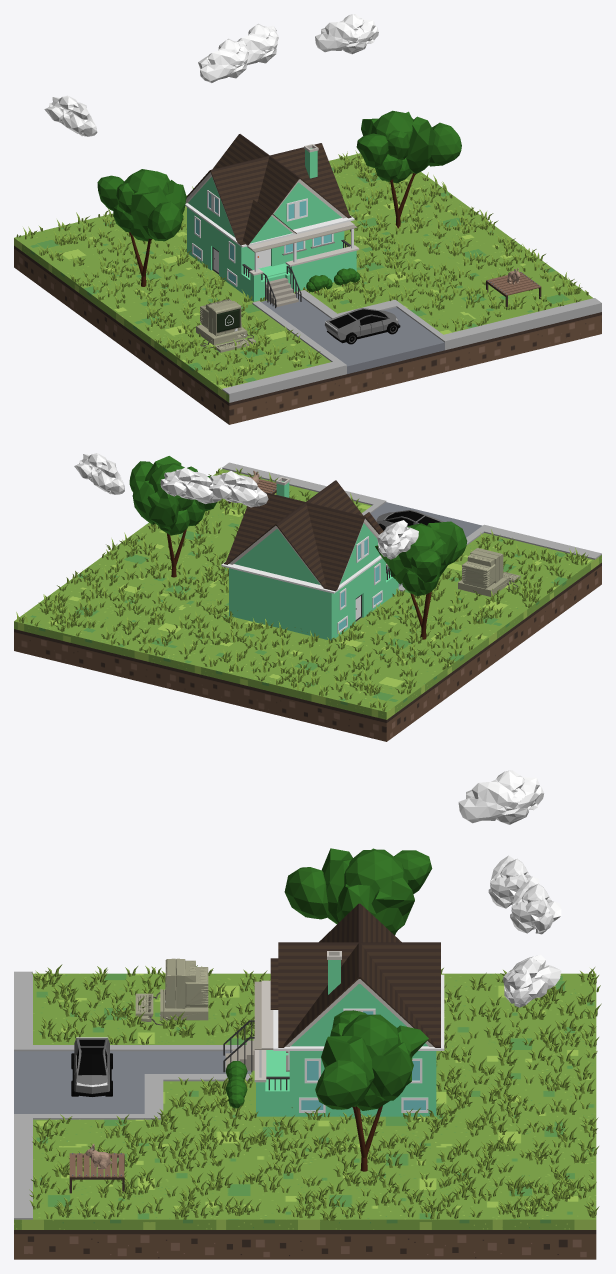
3 views of the same model, one above another, from view 1: azimuth 30°, elevation 25°; view 2: azimuth 150°, elevation 25°; view 3: azimuth 270°, elevation 25° (orthographic). The views are drawn at different scales.
Visible parts, largest first — view 1: Cube.006, Cube.352, Circle.012_Grass_0.192, Cube.007, tree, tree.001, OBJRANDOM_RETRO_PC, VEHICLES_CYBERTRUCK, Cube.009; view 2: Cube.006, Cube.352, Circle.012_Grass_0.192, Cube.007, tree.001, tree, OBJRANDOM_RETRO_PC, VEHICLES_CYBERTRUCK; view 3: Cube.006, Circle.012_Grass_0.192, Cube.352, tree, Cube.007, tree.001, OBJRANDOM_RETRO_PC, VEHICLES_CYBERTRUCK, Cube.009.
Boxes of the visible parts, box(x1,y1,x2,y2) form: Cube.006: box(14, 153, 601, 424); Cube.352: box(185, 134, 359, 308); Circle.012_Grass_0.192: box(16, 150, 588, 386); Cube.007: box(44, 14, 378, 136); tree: box(356, 110, 461, 228); tree.001: box(97, 169, 186, 286); OBJRANDOM_RETRO_PC: box(196, 299, 255, 352); VEHICLES_CYBERTRUCK: box(325, 308, 400, 344); Cube.009: box(486, 272, 541, 306); Cube.006: box(14, 462, 601, 741); Cube.352: box(221, 477, 398, 640); Circle.012_Grass_0.192: box(16, 468, 588, 711); Cube.007: box(74, 453, 418, 559); tree.001: box(375, 521, 467, 639); tree: box(129, 456, 216, 577); OBJRANDOM_RETRO_PC: box(458, 548, 520, 596); VEHICLES_CYBERTRUCK: box(376, 509, 444, 530); Cube.006: box(14, 971, 596, 1259); Circle.012_Grass_0.192: box(29, 964, 601, 1220); Cube.352: box(223, 903, 444, 1116); tree: box(315, 1010, 428, 1171); Cube.007: box(458, 770, 561, 1007); tree.001: box(284, 848, 432, 935); OBJRANDOM_RETRO_PC: box(135, 958, 208, 1025); VEHICLES_CYBERTRUCK: box(71, 1037, 112, 1096); Cube.009: box(69, 1153, 124, 1193).
Bounding box in the file's own units: 4071 × 2192 × 4040.
36 materials, 3 textured.
